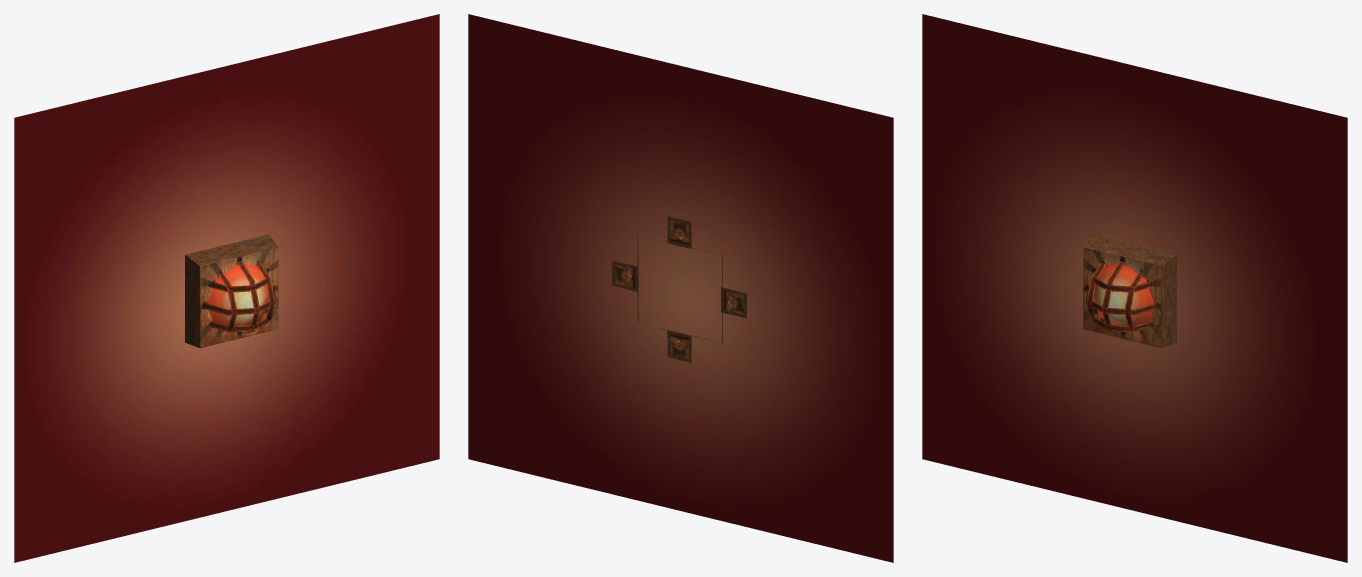
Rendered from frn_all_mine_wall_lamp_s01_l2.fbx.
3 renders of one model, left to right at view 1: azimuth 30°, elevation 25°; view 2: azimuth 150°, elevation 25°; view 3: azimuth 330°, elevation 25°, orthographic.
Parts seen in each view (by area): view 1: mesh_node; view 2: mesh_node; view 3: mesh_node.
Part boxes in pixels (x1=…): mesh_node: x1=14, y1=14, x2=439, y2=562; mesh_node: x1=468, y1=14, x2=893, y2=562; mesh_node: x1=922, y1=14, x2=1347, y2=562.
Size of the model in its own units: 1 by 1 by 0.1294.
